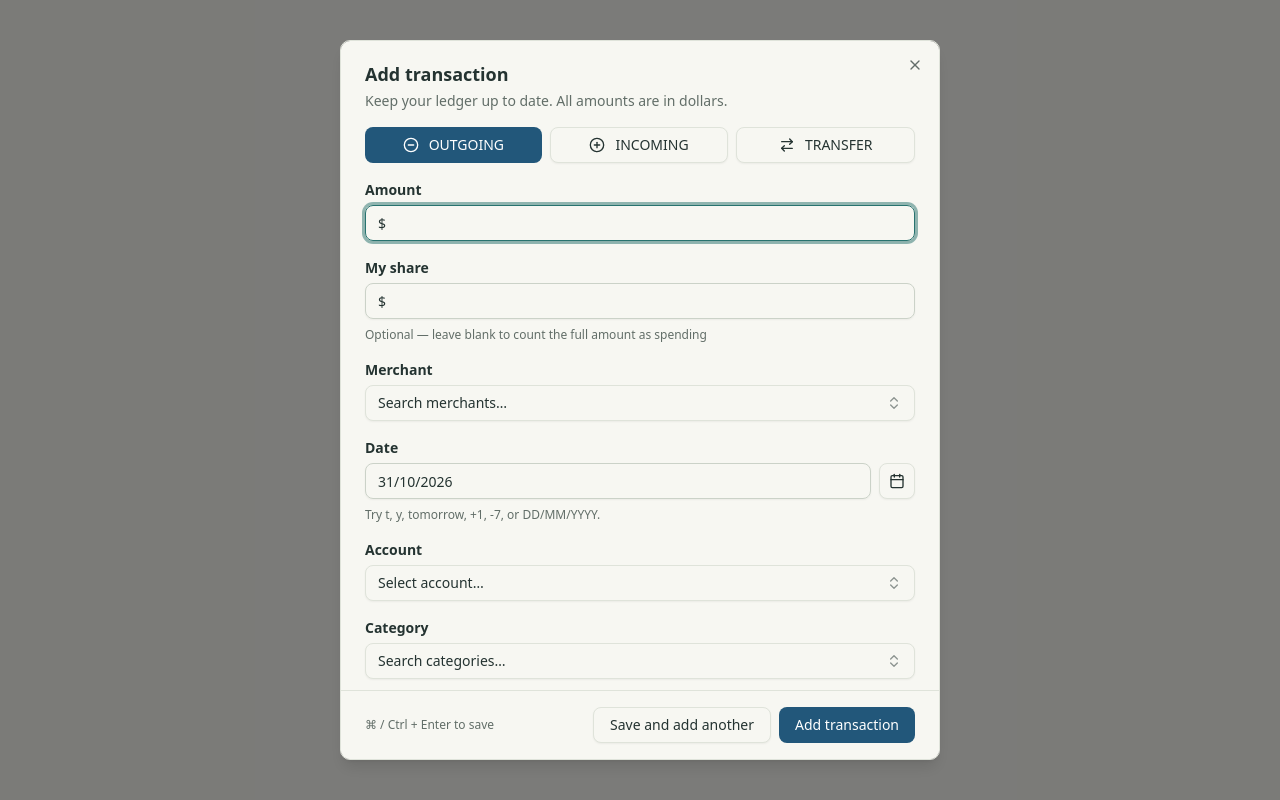
transaction editor › creates once with the entered date and share, then clears financial details for add another
Replace the text in the field labelled "Amount" with "100". click: (640, 223)
box: [365,205,915,241]
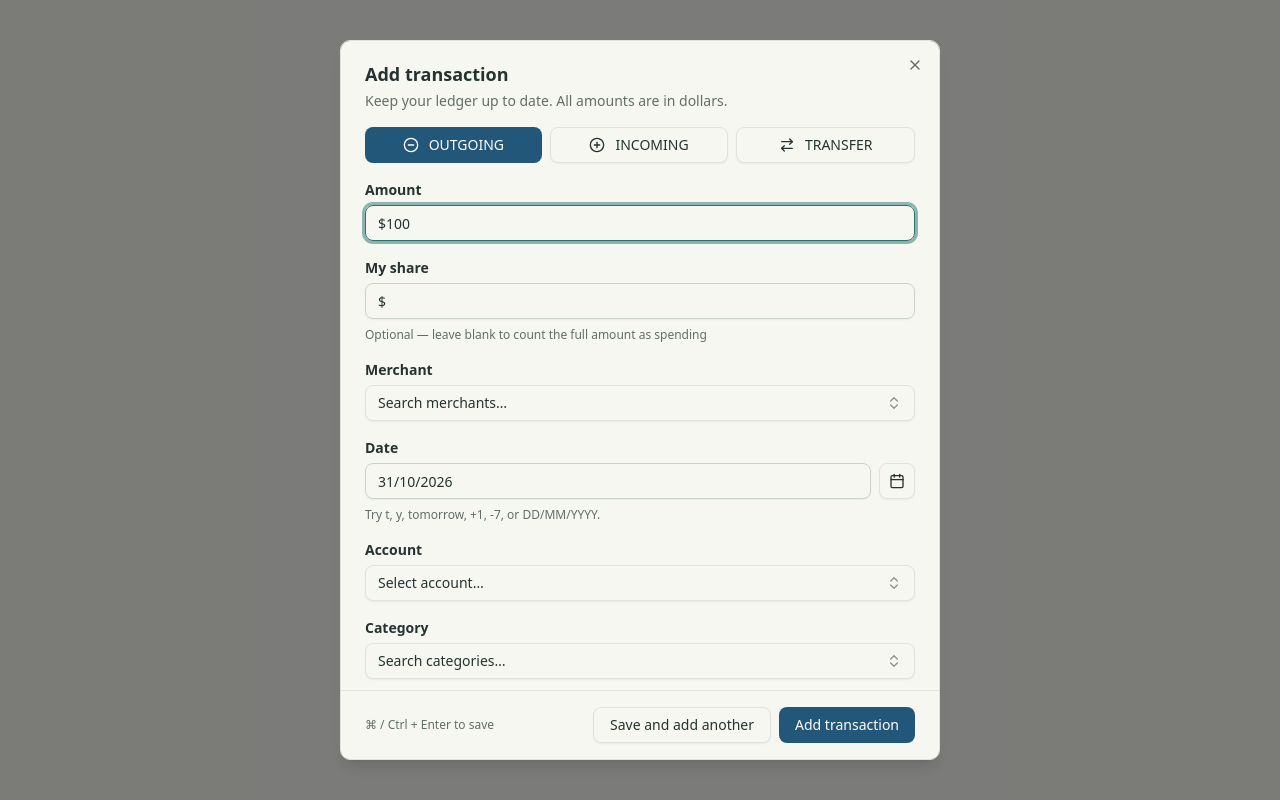
Replace the text in the field labelled "My share" with "40". click: (640, 301)
box: [365,283,915,319]
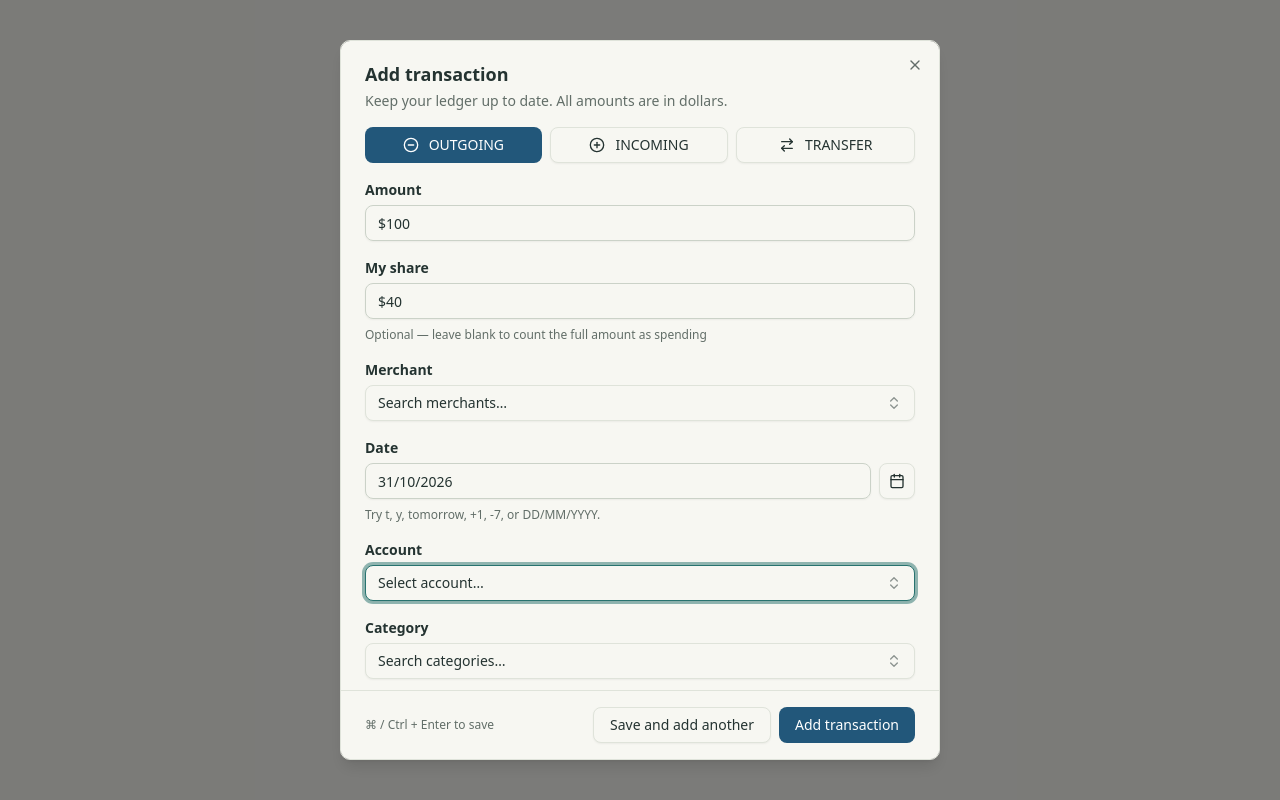
Type keys "Ch{Enter}"
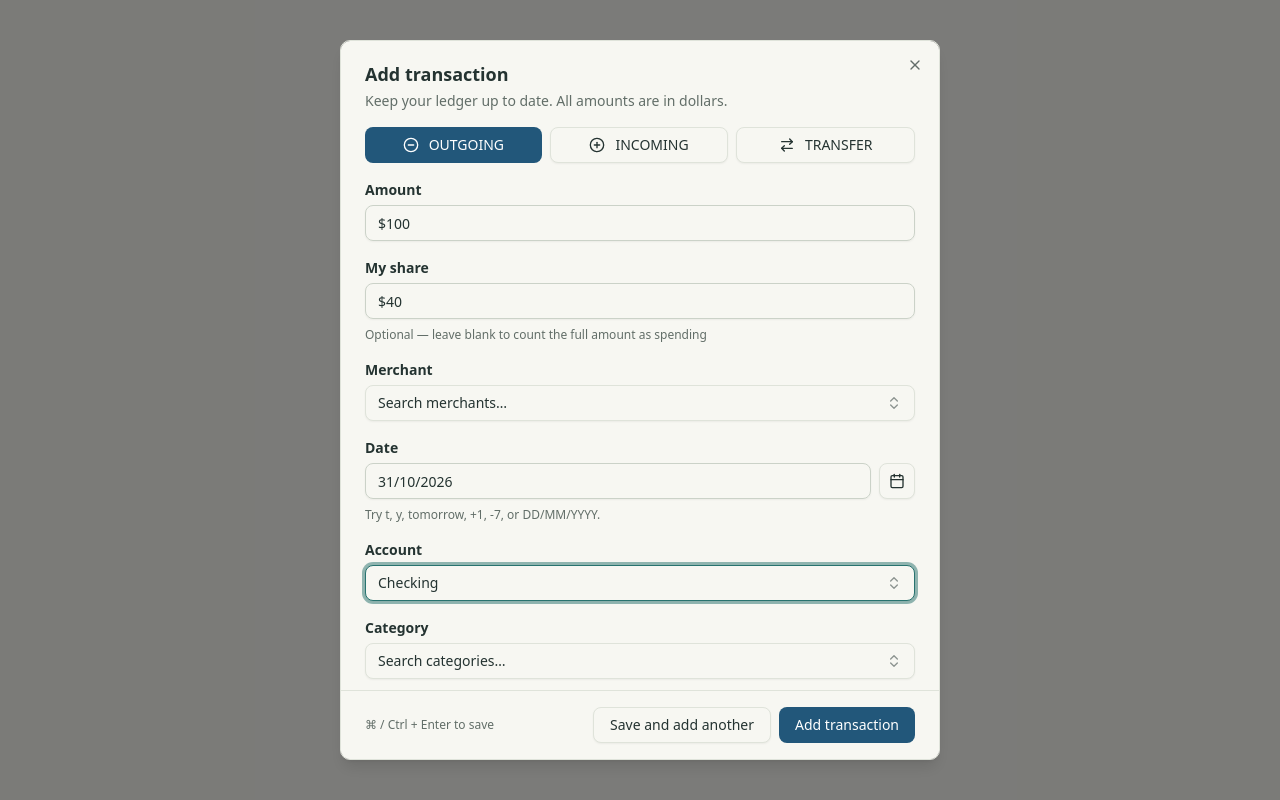
Replace the text in the field labelled "Date" with "25/12/2026". click: (618, 481)
box: [365,463,871,499]
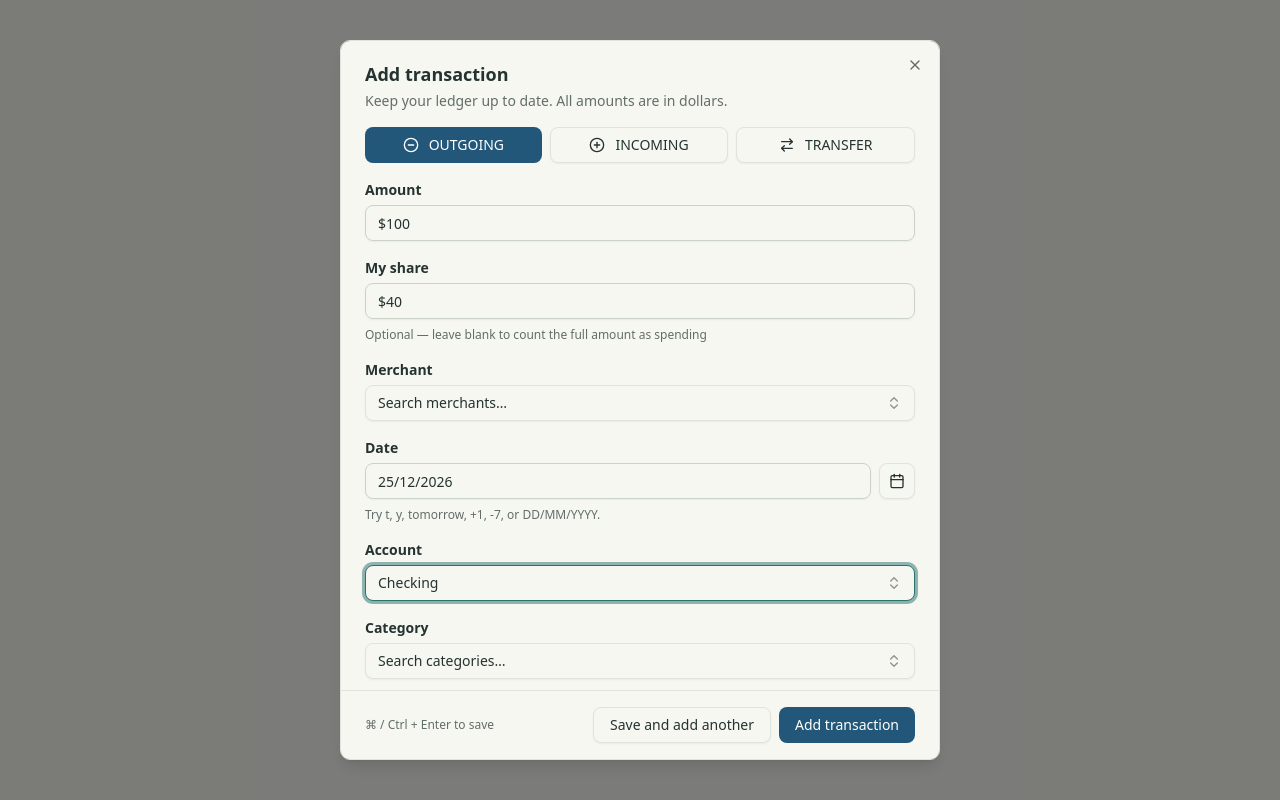
Click the button "Save and add another". click: click(682, 725)
box: [593,707,771,743]
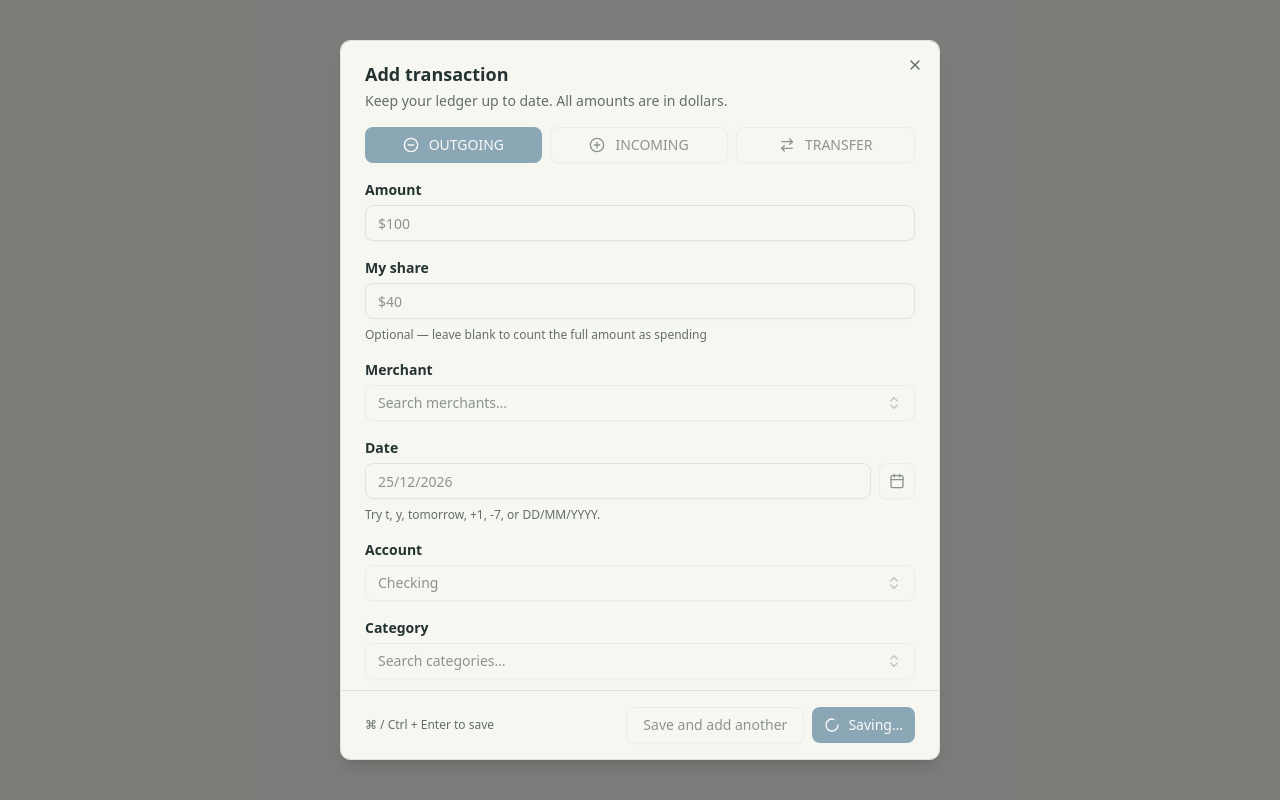
Press Enter in the field labelled "Date", box [365,463,871,499]
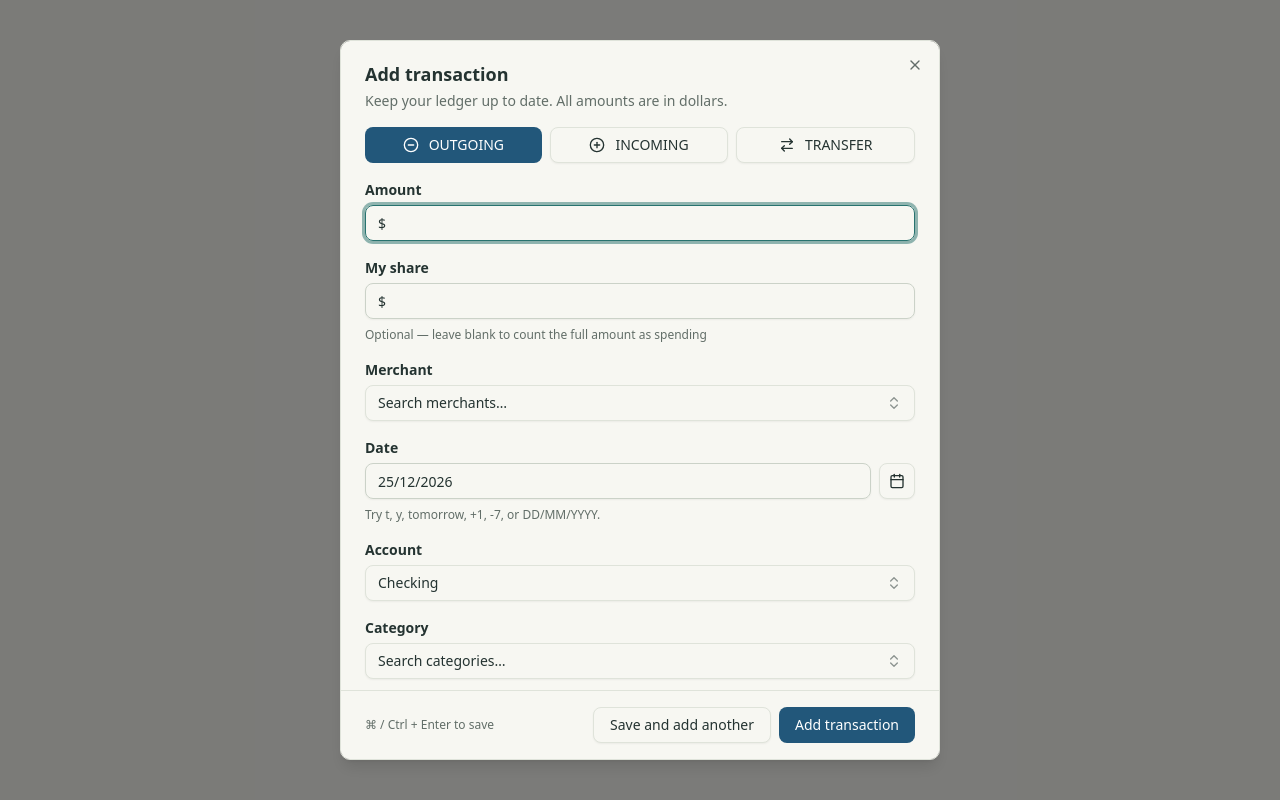
Expected: the dropdown named "Account" reads "Checking", [365,565,915,601]
Expected: the field labelled "Amount" holds "$", [365,205,915,241]
Expected: the field labelled "My share" holds "$", [365,283,915,319]
